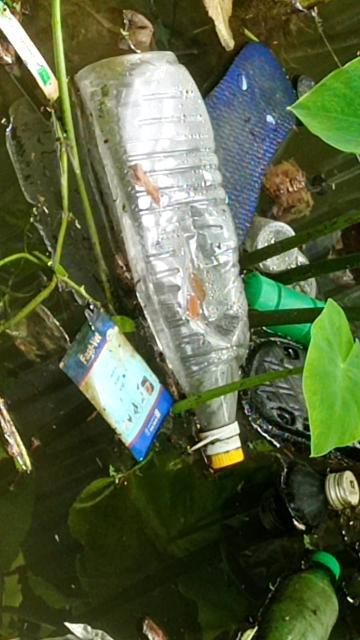bottle: (68, 30, 275, 472)
